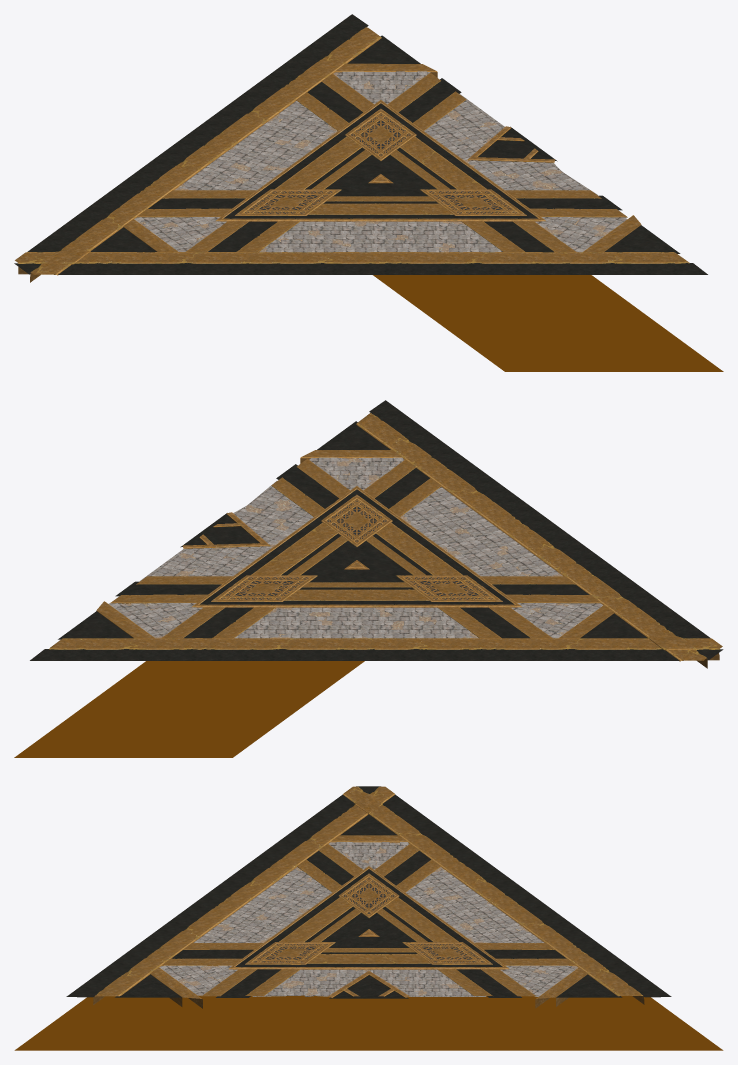
3 renders of one model, top to bottom at view 1: azimuth 30°, elevation 25°; view 2: azimuth 150°, elevation 25°; view 3: azimuth 270°, elevation 25°, orthographic. The views are drawn at different scales.
Parts seen in each view (by area): view 1: SM_Nightmare_Crucible_Arena_Side_SectionA_01v1_LOD0; view 2: SM_Nightmare_Crucible_Arena_Side_SectionA_01v1_LOD0; view 3: SM_Nightmare_Crucible_Arena_Side_SectionA_01v1_LOD0.
Boxes of the visible parts, bbox=[...] form: SM_Nightmare_Crucible_Arena_Side_SectionA_01v1_LOD0: bbox=[14, 14, 723, 371]; SM_Nightmare_Crucible_Arena_Side_SectionA_01v1_LOD0: bbox=[14, 400, 723, 757]; SM_Nightmare_Crucible_Arena_Side_SectionA_01v1_LOD0: bbox=[14, 786, 723, 1050].
Bounding box in the file's own units: 93.85 × 12.61 × 132.
Materials: 7 (6 with a texture image).
